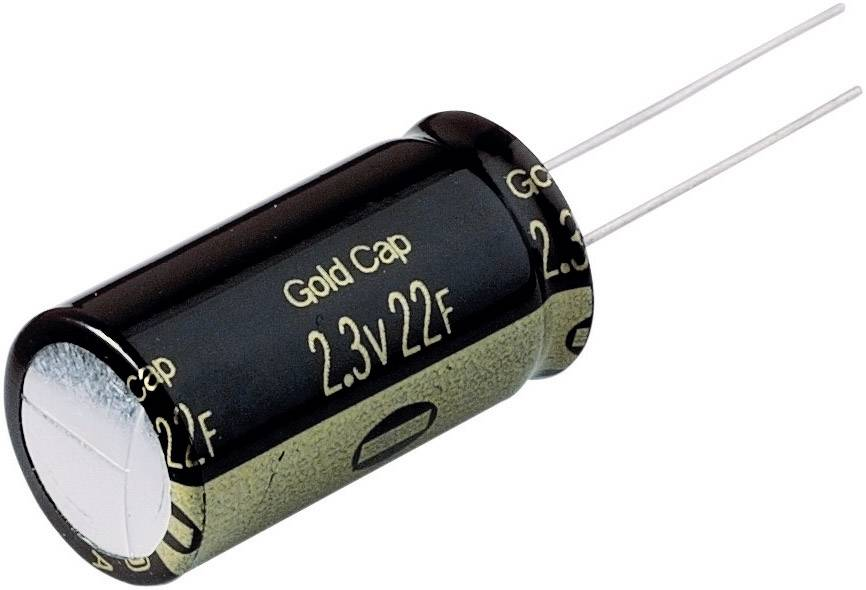capacitor: (8, 78, 677, 589)
